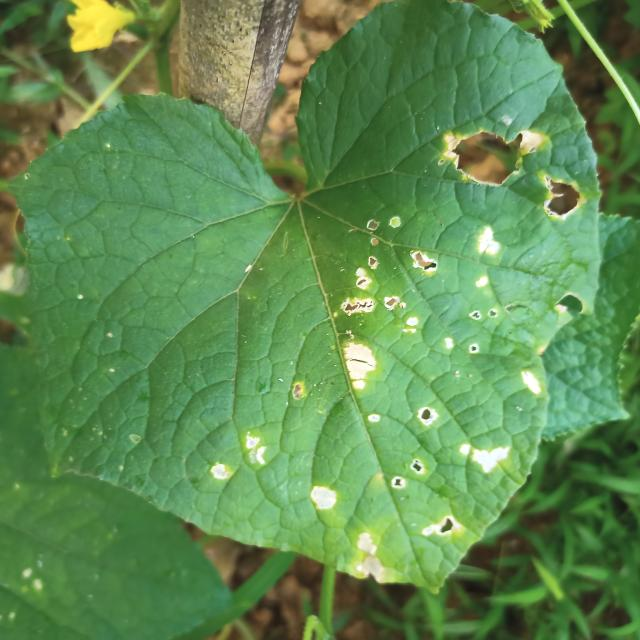disease_cucumber: (338, 212, 439, 335), (437, 123, 542, 188), (208, 432, 270, 482), (541, 173, 586, 220), (343, 337, 377, 393), (457, 440, 513, 474), (351, 530, 386, 578), (419, 513, 462, 543), (391, 457, 425, 492), (306, 481, 341, 513), (474, 222, 502, 260), (517, 367, 543, 400), (417, 406, 438, 425)
